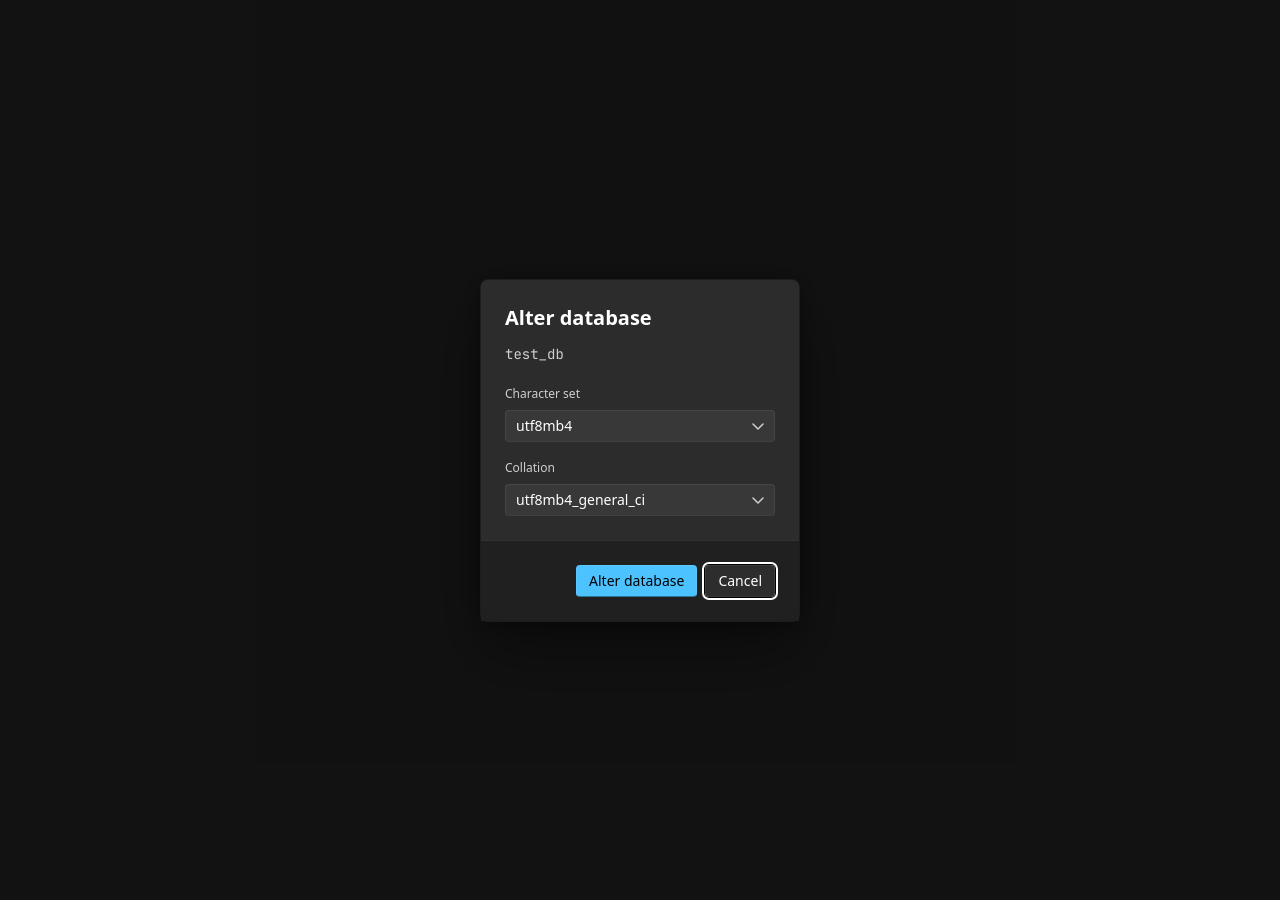
AlterDatabaseDialog › shows error if backend fails
Click the button with test id "alter-db-submit-button" at (637, 580), box [576,564,697,596]
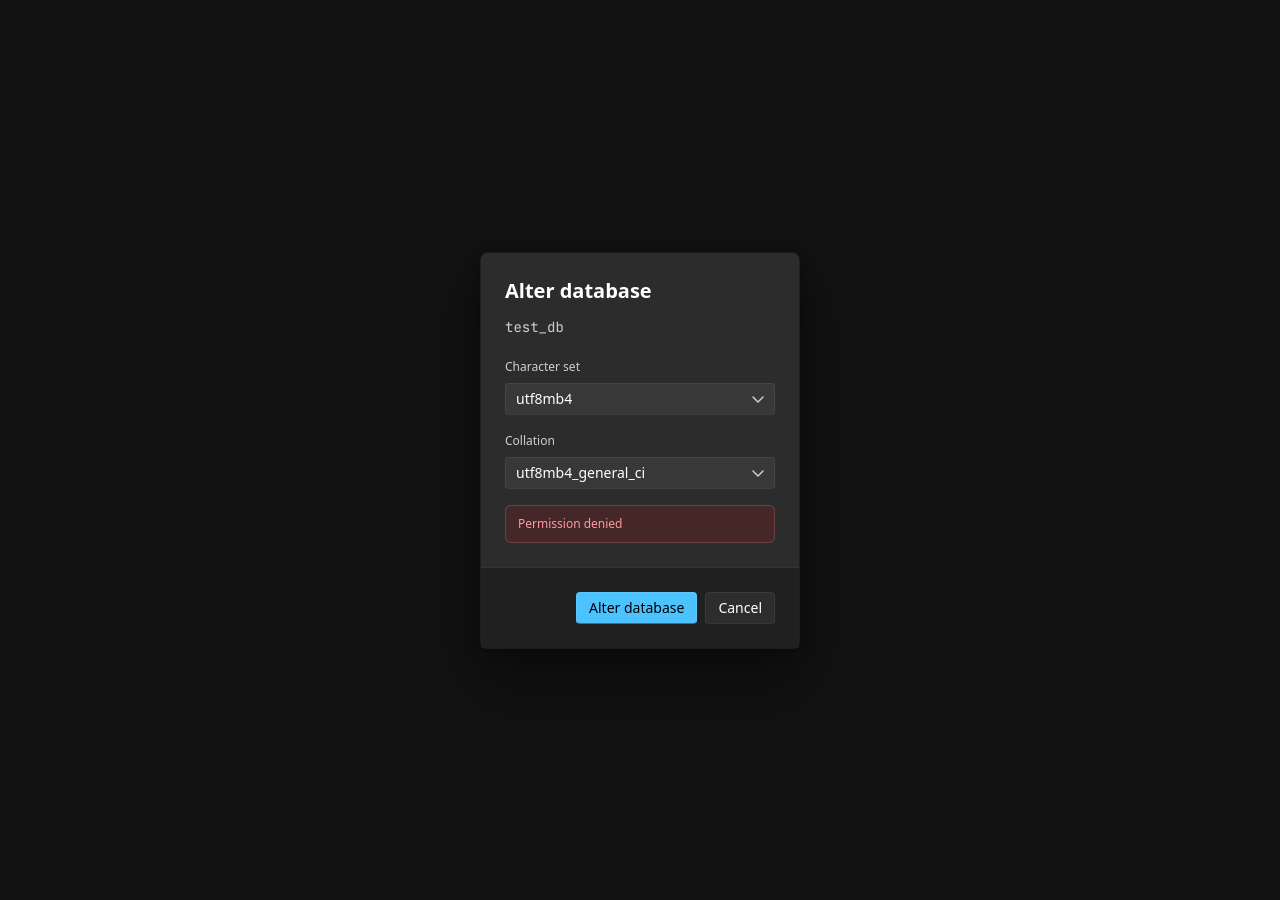
Check: the button with test id "alter-db-submit-button" is enabled, box [576,592,697,624]
Check: the text with test id "alter-db-error" reads "Permission denied", box [518,514,622,532]
